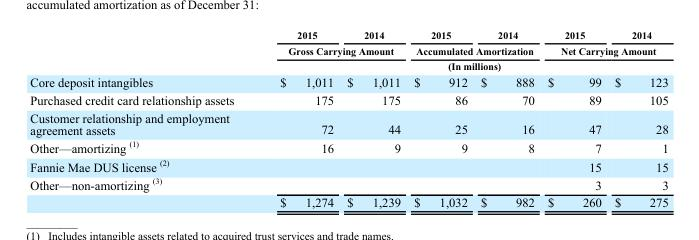table: (29, 28, 667, 208)
table column: (29, 28, 256, 208), (256, 28, 339, 208), (339, 28, 406, 208), (406, 28, 473, 208), (473, 28, 540, 208), (540, 28, 607, 208), (607, 28, 667, 208)
table column header: (29, 28, 667, 73)
table row: (29, 108, 667, 137), (29, 137, 667, 156), (29, 174, 667, 193), (29, 90, 667, 108), (29, 156, 667, 174), (29, 73, 667, 90), (29, 42, 667, 58), (29, 58, 667, 73), (29, 193, 667, 208), (29, 28, 667, 42)
table spanning cell: (256, 58, 667, 73), (256, 42, 406, 58), (406, 42, 540, 58), (540, 42, 667, 58)
